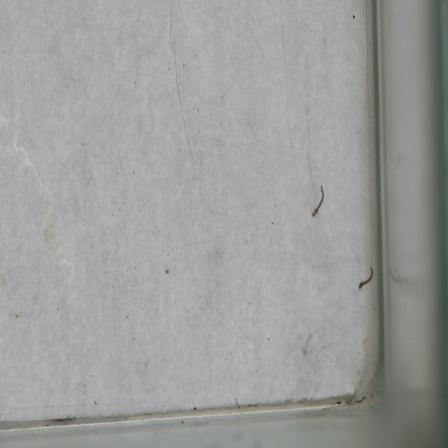Jentik-Nyamuk: (308, 182, 331, 220), (355, 264, 379, 293)
